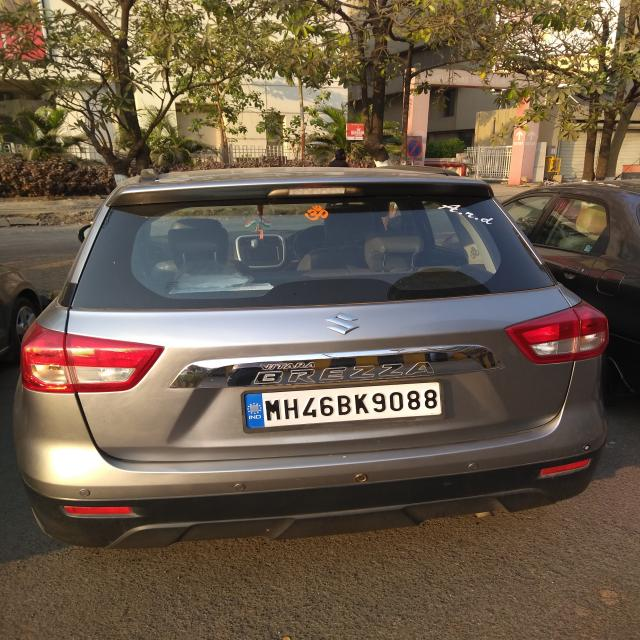Number-Plate: (244, 387, 451, 424)
